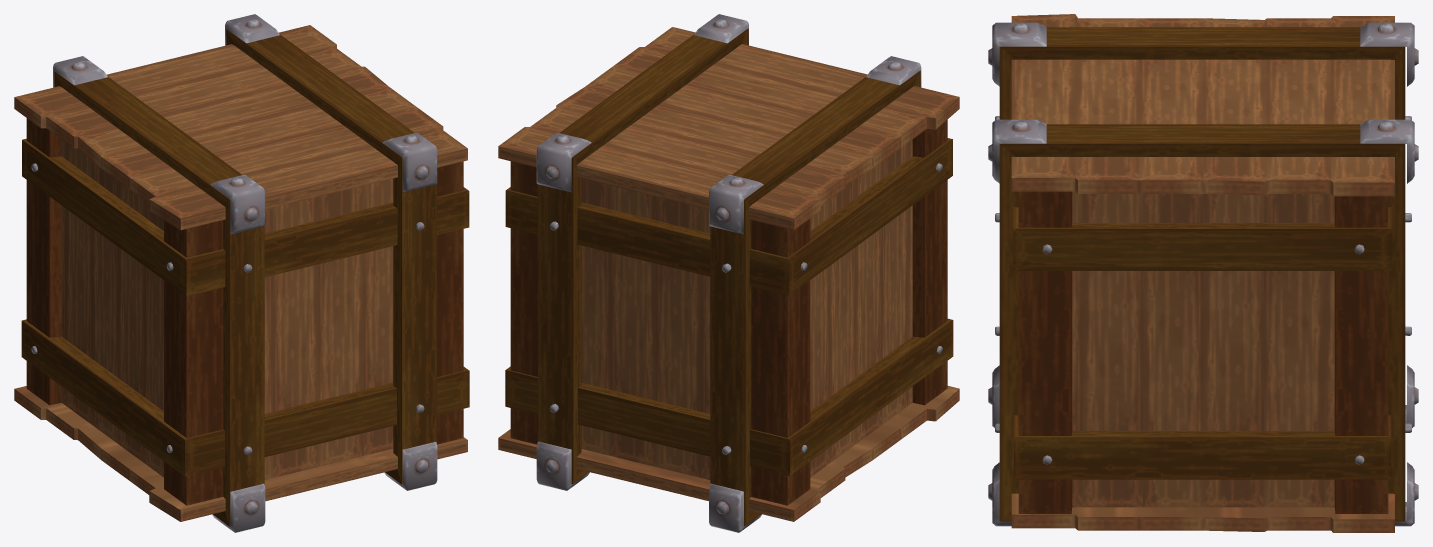
The model's file is crate_wooden.glb.
The picture shows the model from 3 angles, left to right: view 1: azimuth 30°, elevation 25°; view 2: azimuth 150°, elevation 25°; view 3: azimuth 270°, elevation 25°; orthographic projection. The views are drawn at different scales.
Visible parts, largest first — view 1: Crate_Wooden; view 2: Crate_Wooden; view 3: Crate_Wooden.
Boxes of the visible parts, left/top/right/bottom form: Crate_Wooden: left=14, top=14, right=469, bottom=532; Crate_Wooden: left=498, top=14, right=959, bottom=532; Crate_Wooden: left=988, top=14, right=1418, bottom=532.
Bounding box in the file's own units: 0.8423 × 0.9309 × 0.9083.
Materials: 2 (2 with a texture image).
